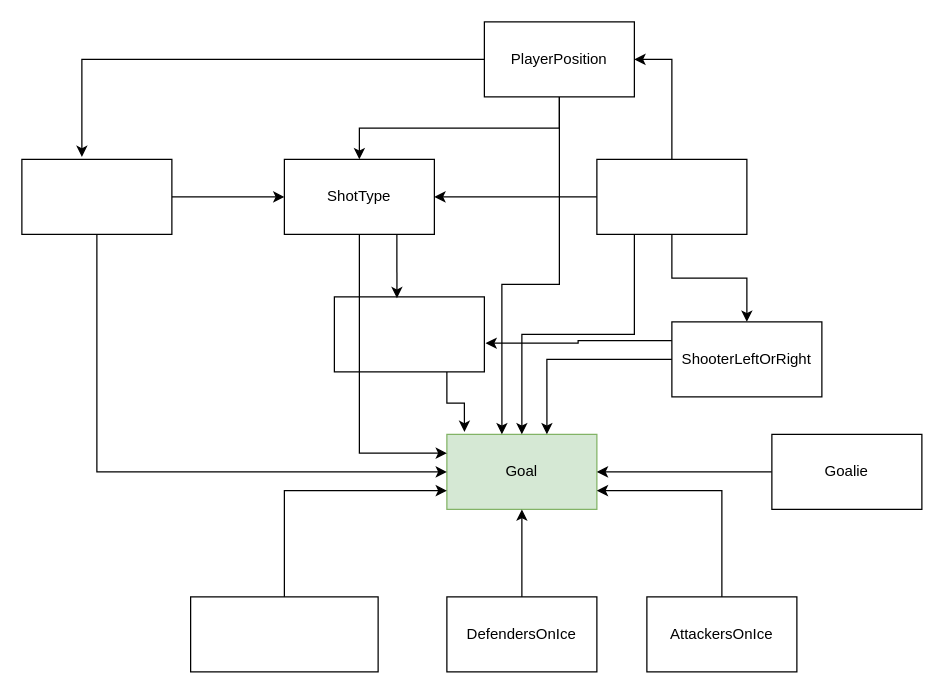
Some shapes in this 944 by 694 pixel diagram are drawn without their labels. The shapes that lost their labels are listed below. From the top down, each one's box as (x1, y1, x2, y2) in pixels, then its label:
(21, 158, 172, 234): ShotDistance
(596, 158, 747, 234): Shooter
(333, 296, 484, 372): ShotAngle
(189, 596, 378, 672): AverageRestDifference
